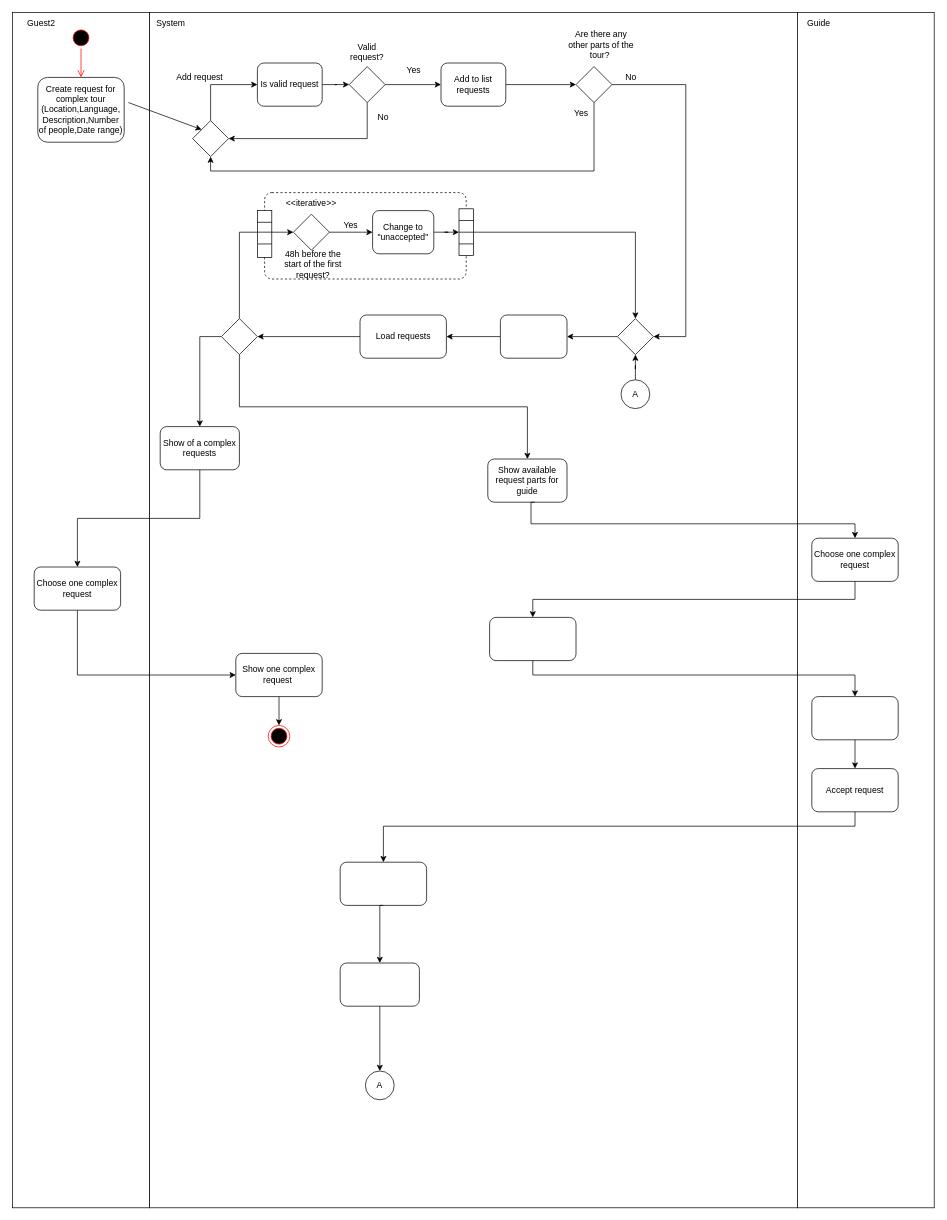
The diagram is 947 pixels wide and 1220 high, and some of its shapes have lost their labels. The box of each missing label's shape, as (x1, y1, x2, y2) in pixels:
Choose appointment: (811, 696, 898, 740)
Create tour by request: (339, 861, 427, 905)
Show available appointments for chosen request: (489, 617, 576, 661)
Storage of a complex request: (500, 314, 567, 358)
Update tourRequestState to 'accepted': (339, 962, 419, 1006)
